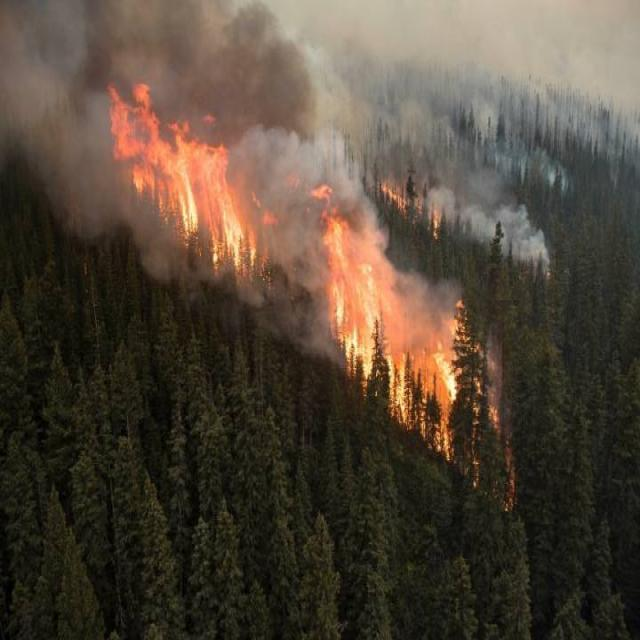Fire: (322, 168, 520, 484), (104, 90, 256, 266)
Smoke: (0, 0, 640, 80), (266, 75, 554, 164)
